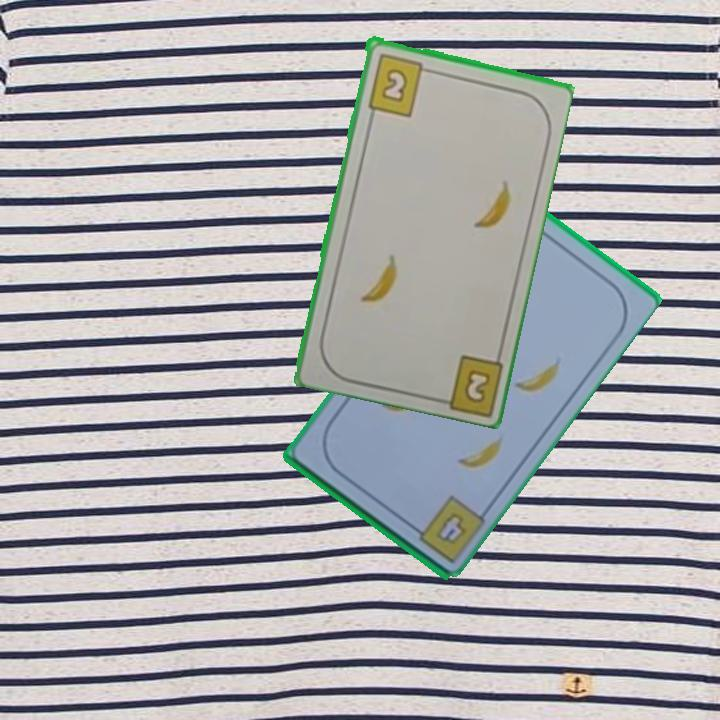2b: (364, 49, 434, 118), (460, 365, 493, 406)
4b: (432, 508, 469, 547)
